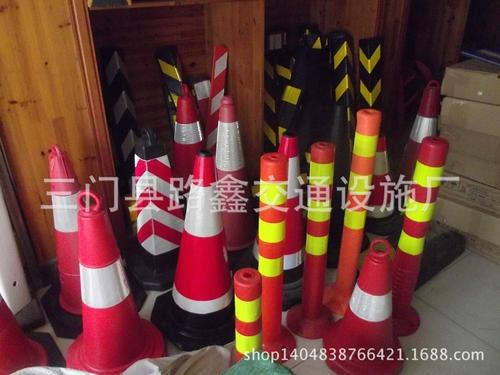cone_barrel: (70, 193, 153, 368), (165, 147, 234, 347), (387, 135, 452, 317), (249, 141, 299, 349), (331, 110, 383, 309), (126, 128, 184, 282), (328, 244, 400, 368), (296, 137, 335, 328), (43, 144, 87, 309), (211, 95, 252, 254), (398, 84, 442, 185), (170, 89, 204, 191), (230, 265, 265, 359)
